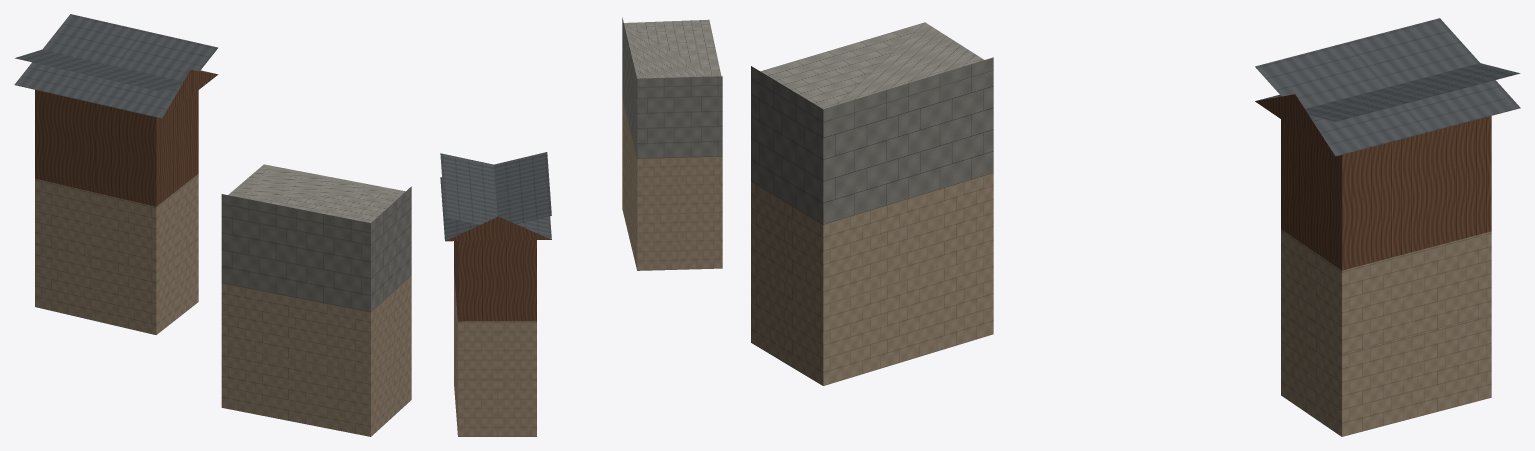
The model's file is bld_c15_23_410.gltf.
3 views of the same model, side by side, from view 1: azimuth 30°, elevation 25°; view 2: azimuth 150°, elevation 25°; view 3: azimuth 270°, elevation 25° (orthographic). The views are drawn at different scales.
Visible parts, largest first — view 1: bld_c15_23_410; view 2: bld_c15_23_410; view 3: bld_c15_23_410.
Boxes of the visible parts, x1,y1,x2,y2 form: bld_c15_23_410: [14, 14, 411, 436]; bld_c15_23_410: [440, 17, 722, 436]; bld_c15_23_410: [751, 18, 1520, 436].
Size of the model in its own units: 6.41 by 9.68 by 20.11.
7 materials, 7 textured.
